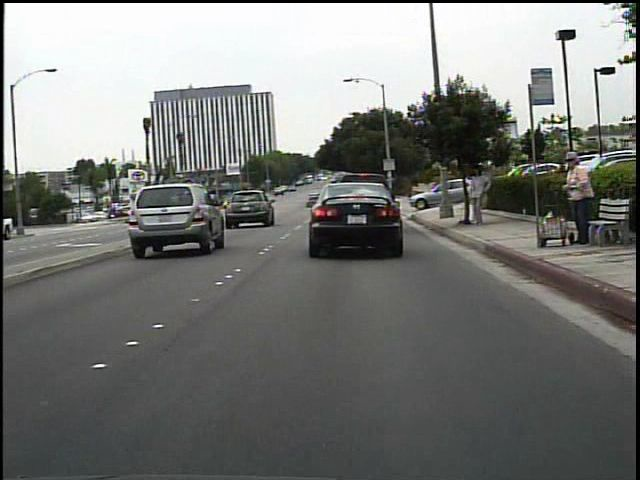person: (555, 148, 599, 251), (466, 161, 495, 228)
